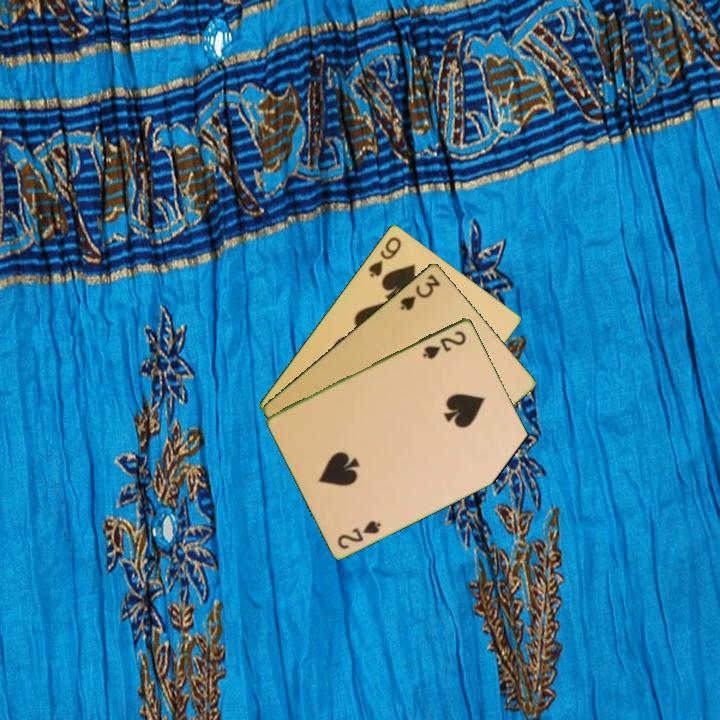2s: (419, 326, 469, 362), (334, 516, 384, 552)
3s: (396, 270, 443, 313)
9s: (365, 233, 404, 280)
